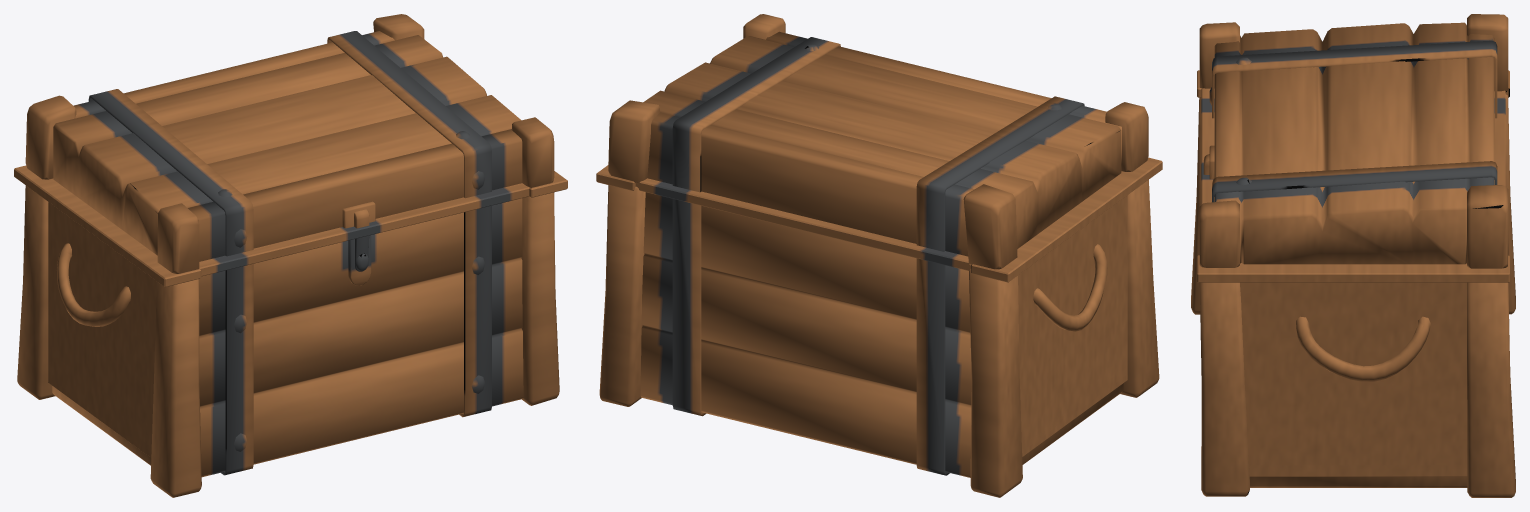
File: storage_chest.fbx
3 views of the same model, side by side, from view 1: azimuth 30°, elevation 25°; view 2: azimuth 150°, elevation 25°; view 3: azimuth 270°, elevation 25° (orthographic). The views are drawn at different scales.
Visible parts, largest first — view 1: storage_chest_Body.003, storage_chest_Lid; view 2: storage_chest_Body.003, storage_chest_Lid; view 3: storage_chest_Body.003, storage_chest_Lid.
Boxes of the visible parts, x1=… form: storage_chest_Body.003: x1=14, y1=165, x2=567, y2=497; storage_chest_Lid: x1=25, y1=14, x2=554, y2=273; storage_chest_Body.003: x1=596, y1=157, x2=1162, y2=497; storage_chest_Lid: x1=608, y1=14, x2=1148, y2=269; storage_chest_Body.003: x1=1191, y1=70, x2=1515, y2=497; storage_chest_Lid: x1=1199, y1=14, x2=1508, y2=268.
Size of the model in its own units: 0.85 by 0.55 by 0.55.
Materials: 1 (1 with a texture image).
